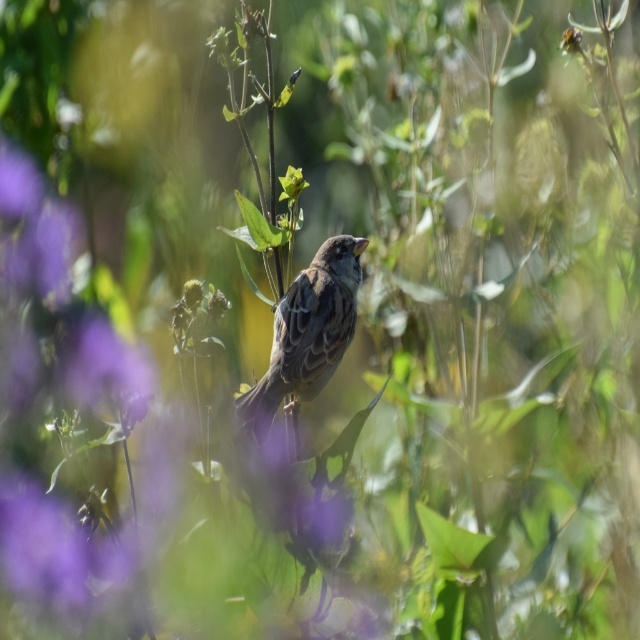Sparrow: (238, 228, 376, 438)
